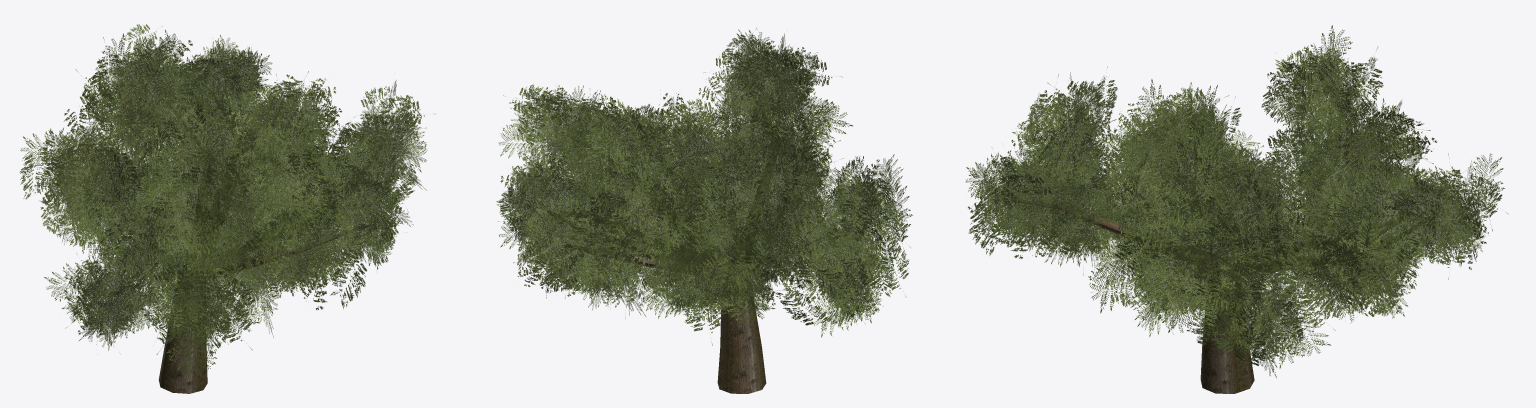
Rendered from olive_2.glb.
3 views of the same model, side by side, from view 1: azimuth 30°, elevation 25°; view 2: azimuth 150°, elevation 25°; view 3: azimuth 270°, elevation 25° (orthographic). The views are drawn at different scales.
Visible parts, largest first — view 1: olive; view 2: olive; view 3: olive.
Boxes of the visible parts, x1,y1,x2,y2 form: olive: [19, 24, 435, 393]; olive: [496, 28, 912, 393]; olive: [965, 25, 1508, 393].
Size of the model in its own units: 7.68 by 6.17 by 8.68.
2 materials, 2 textured.
